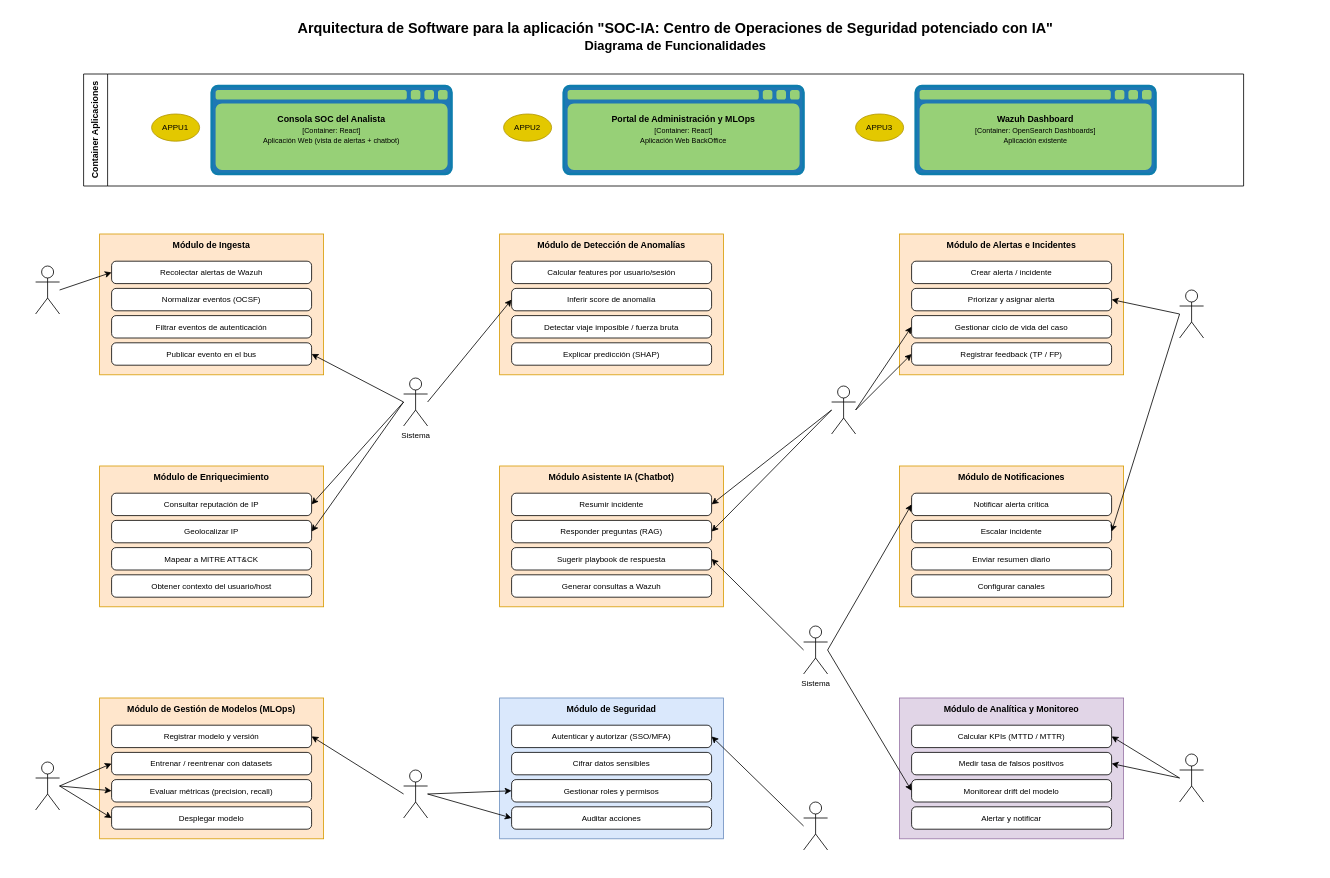
Image size: 1330x878. Some labels were removed from this diagram. The shapes that lost their labels are listed below. From the top down, each one's centre as x and y in pixels, then its label:
At (47,289): "Wazuh SIEM".
At (1191,313): "Líder SOC".
At (843,409): "Analista SOC".
At (47,785): "Científico de Datos".
At (415,793): "Administrador".
At (1191,777): "Supervisor / Analista de datos".
At (815,825): "Usuario aplicativo".
